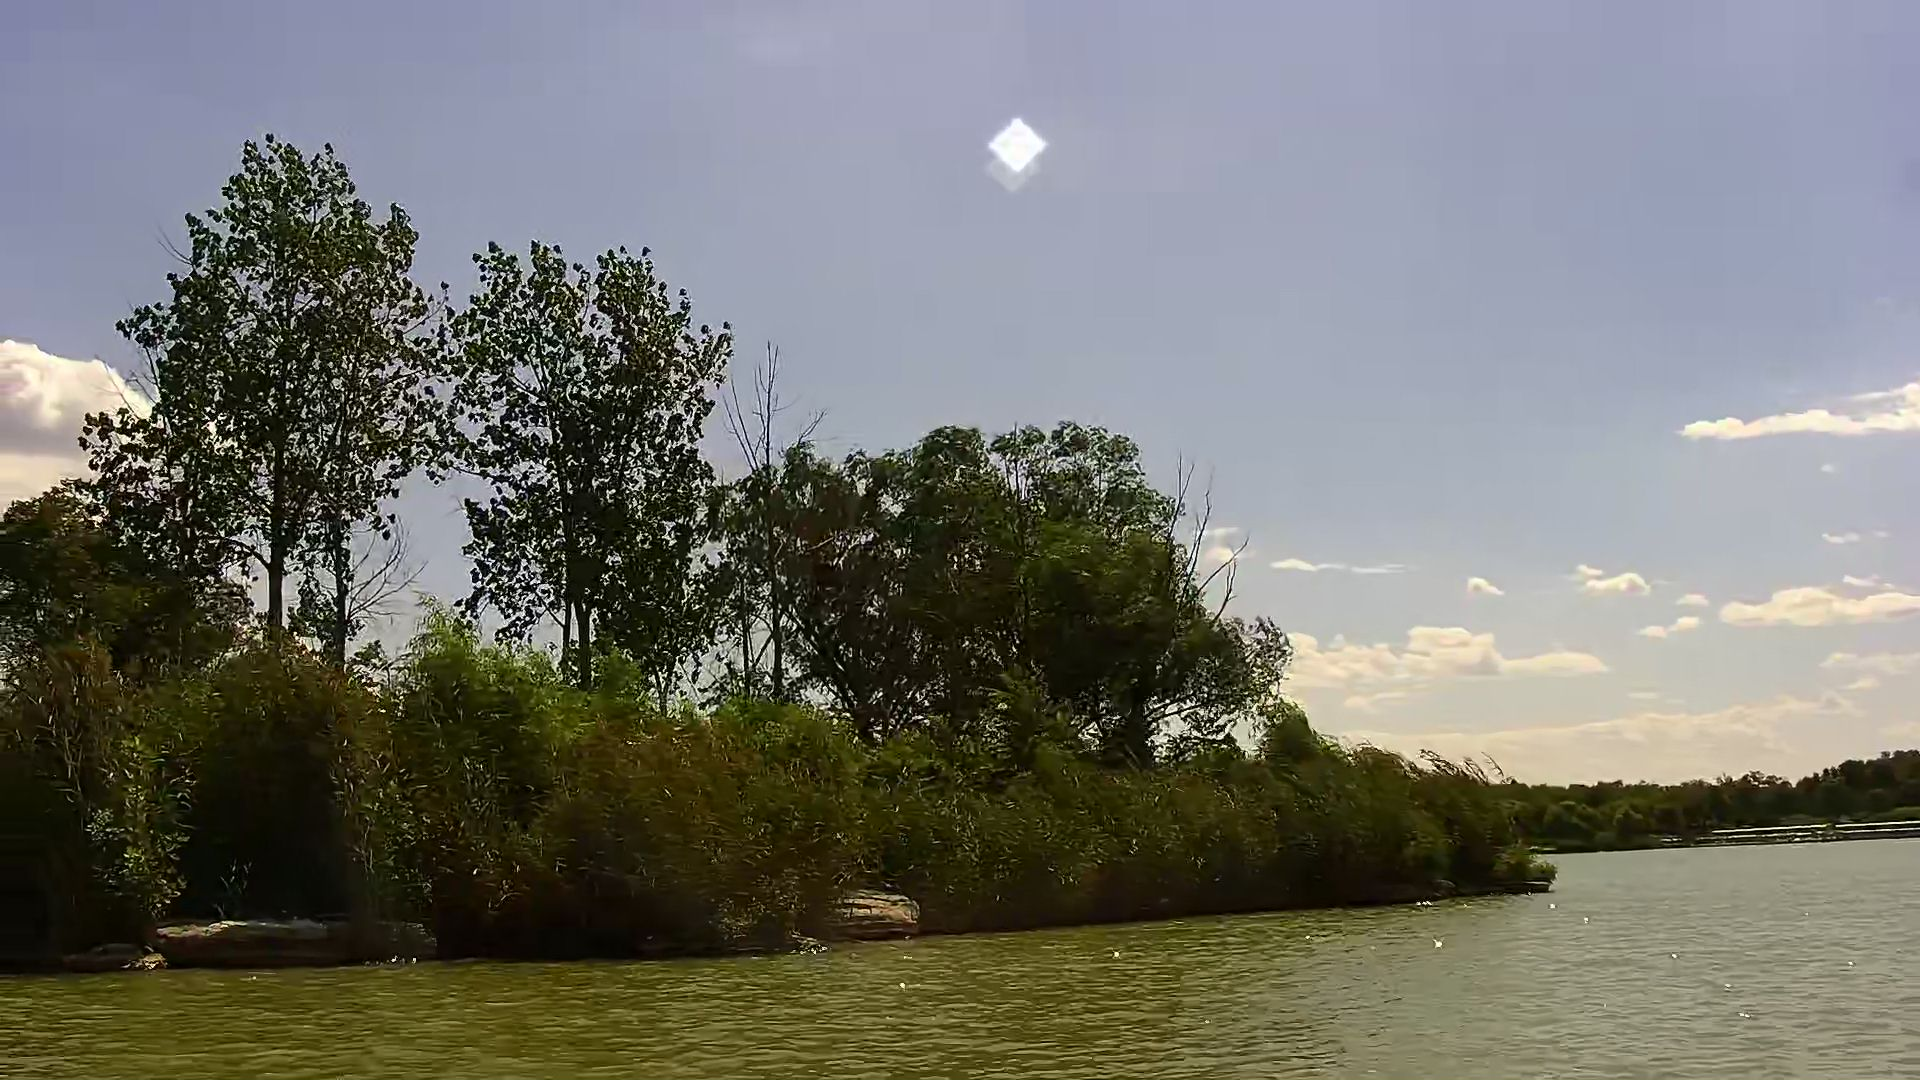harbor: (1702, 811, 1917, 849)
rock: (160, 909, 364, 972), (818, 885, 922, 945)
